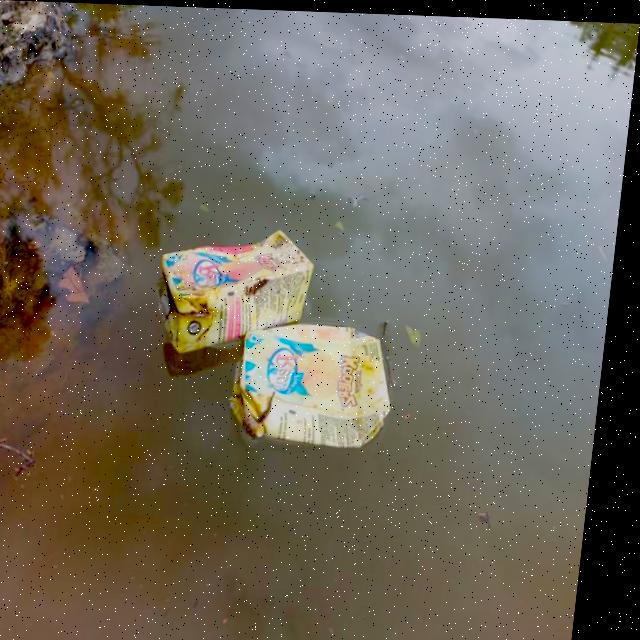paper: (154, 217, 331, 349), (236, 317, 410, 448)
